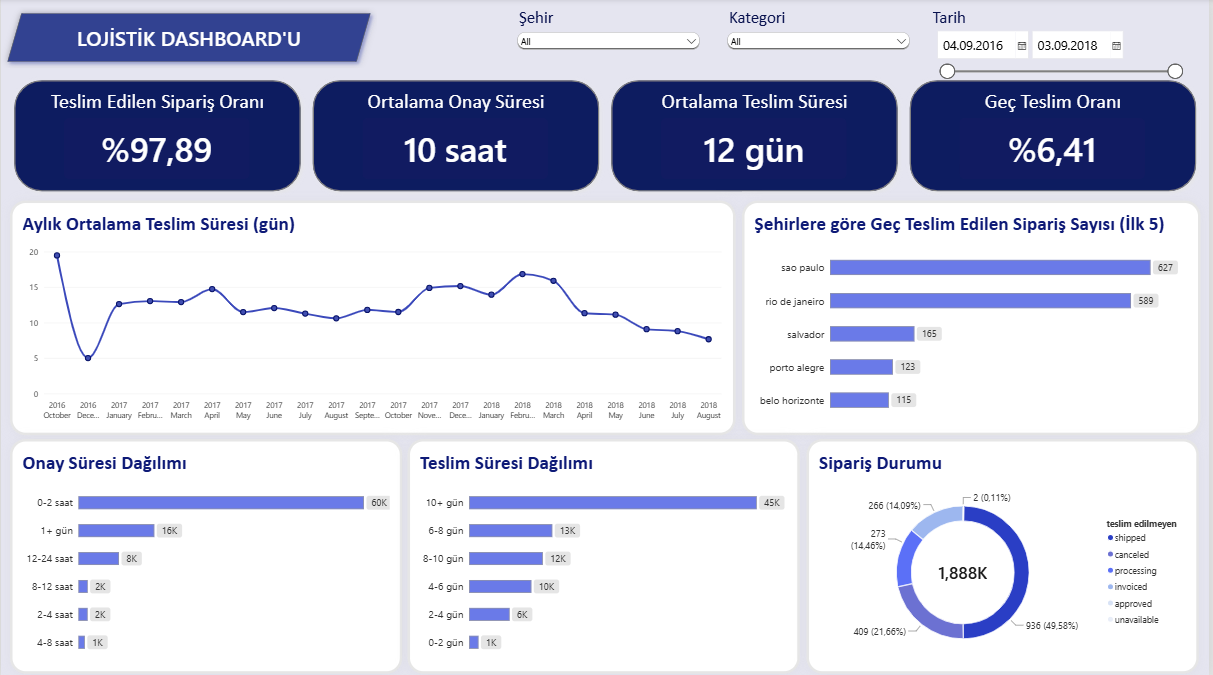

The dashboard page shown, as its layout file describes it:
{"tool":"powerbi","page":{"name":"Page 2","canvas":[1920,1080],"ordinal":1},"visuals":[{"type":"shape","box":[0,15,598,97],"z":0},{"type":"shape","box":[11,122,474,195],"z":1},{"type":"shape","box":[486.7,122,474,195],"z":2},{"type":"shape","box":[961,122,474,195],"z":3},{"type":"shape","box":[1436,122,474,195],"z":4},{"type":"cardVisual","fields":{"Data":["df_Customers.DeliveryRate"]},"box":[100.2,191,295,97],"z":5},{"type":"cardVisual","fields":{"Data":["df_Customers.AAT_Format"]},"box":[575,191,295,97],"z":6},{"type":"cardVisual","fields":{"Data":["df_Customers.ADT_Format"]},"box":[1049.8,191,295,97],"z":7},{"type":"cardVisual","fields":{"Data":["df_Customers.LateDeliveryRate"]},"box":[1524.6,191,295,97],"z":8},{"type":"lineChart","title":"Aylık Ortalama Teslim Süresi (gün)","fields":{"Category":["df_Orders.order_purchase_timestamp.Variation.Date Hierarchy.Year","df_Orders.order_purchase_timestamp.Variation.Date Hierarchy.Month"],"Y":["df_Customers.AverageDeliveryTime"]},"box":[15,322,1154,373],"z":9},{"type":"clusteredBarChart","title":"Şehirlere göre Geç Teslim Edilen Sipariş Sayısı (İlk 5)","fields":{"Category":["df_Customers.customer_city"],"Y":["df_Customers.LateDelivery"]},"box":[1179,322.1,729,373],"z":10},{"type":"clusteredBarChart","title":"Onay Süresi Dağılımı","fields":{"Category":["df_Orders.ApprovalTimeSegment"],"Y":["CountNonNull(df_Orders.order_id)"]},"box":[14.3,702,624,373],"z":11},{"type":"clusteredBarChart","title":"Teslim Süresi Dağılımı","fields":{"Category":["df_Orders.DeliveryTimeSegment"],"Y":["CountNonNull(df_Orders.order_id)"]},"box":[647,702,624,373],"z":12},{"type":"donutChart","title":"Sipariş Durumu","fields":{"Category":["df_Orders.order_status"],"Y":["CountNonNull(df_Orders.order_id)"]},"box":[1281,702,624,373],"z":13},{"type":"slicer","fields":{"Values":["df_Customers.customer_city"]},"box":[817,15,300,87],"z":14},{"type":"slicer","fields":{"Values":["df_Products.product_category_name"]},"box":[1149,15,300,87],"z":15},{"type":"slicer","title":"Tarih","fields":{"Values":["df_Orders.order_purchase_timestamp"]},"box":[1482,15,402,115],"z":16}]}

Visuals, with their boxes in screenshot pixels (x1, y1, x2, y2), scaled from the page's 1920x1080 canvas onto the 1213x675 screenshot:
shape: 0 9 378 70
shape: 7 76 306 198
shape: 307 76 607 198
shape: 607 76 907 198
shape: 907 76 1207 198
cardVisual - df_Customers.DeliveryRate: 63 119 250 180
cardVisual - df_Customers.AAT_Format: 363 119 550 180
cardVisual - df_Customers.ADT_Format: 663 119 850 180
cardVisual - df_Customers.LateDeliveryRate: 963 119 1150 180
"Aylık Ortalama Teslim Süresi (gün)" lineChart: 9 201 739 434
"Şehirlere göre Geç Teslim Edilen Sipariş Sayısı (İlk 5)" clusteredBarChart: 745 201 1205 434
"Onay Süresi Dağılımı" clusteredBarChart: 9 439 403 672
"Teslim Süresi Dağılımı" clusteredBarChart: 409 439 803 672
"Sipariş Durumu" donutChart: 809 439 1204 672
slicer - df_Customers.customer_city: 516 9 706 64
slicer - df_Products.product_category_name: 726 9 915 64
"Tarih" slicer: 936 9 1190 81
